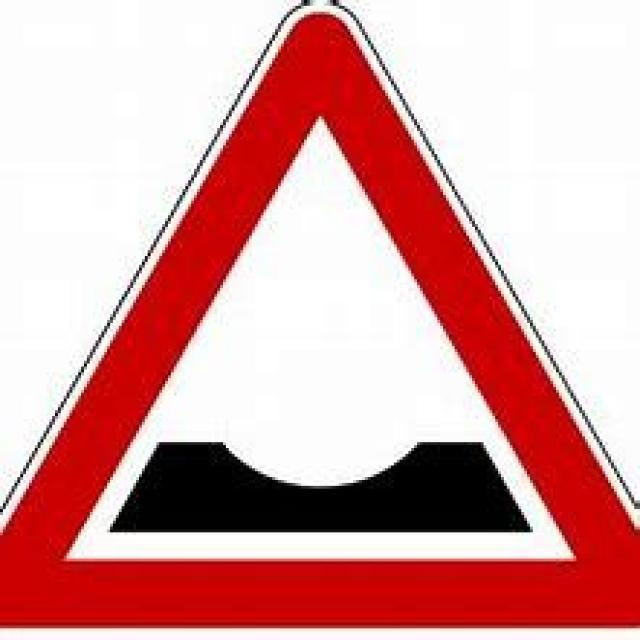dangerous dip: (23, 21, 618, 622)
